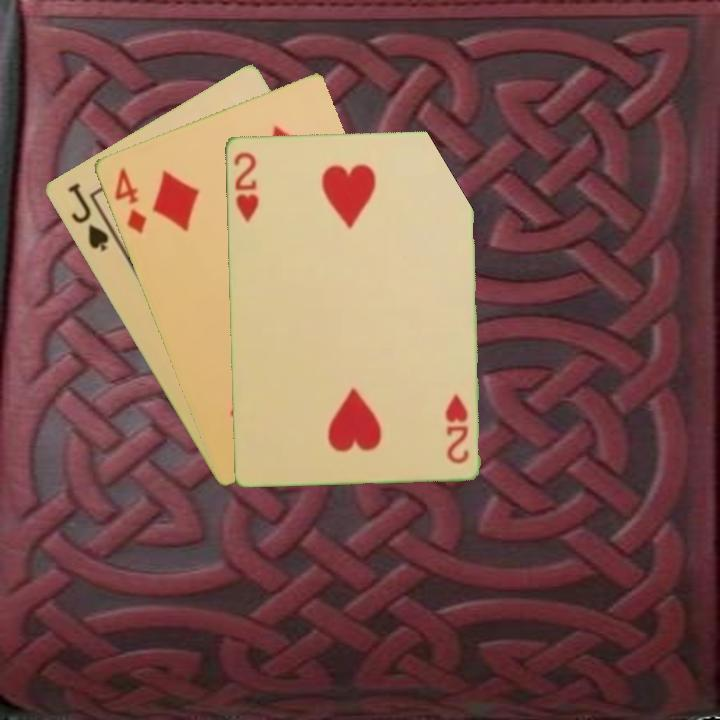2h: (230, 148, 262, 224), (442, 389, 471, 466)
4d: (110, 164, 150, 236)
Js: (63, 179, 111, 255)
